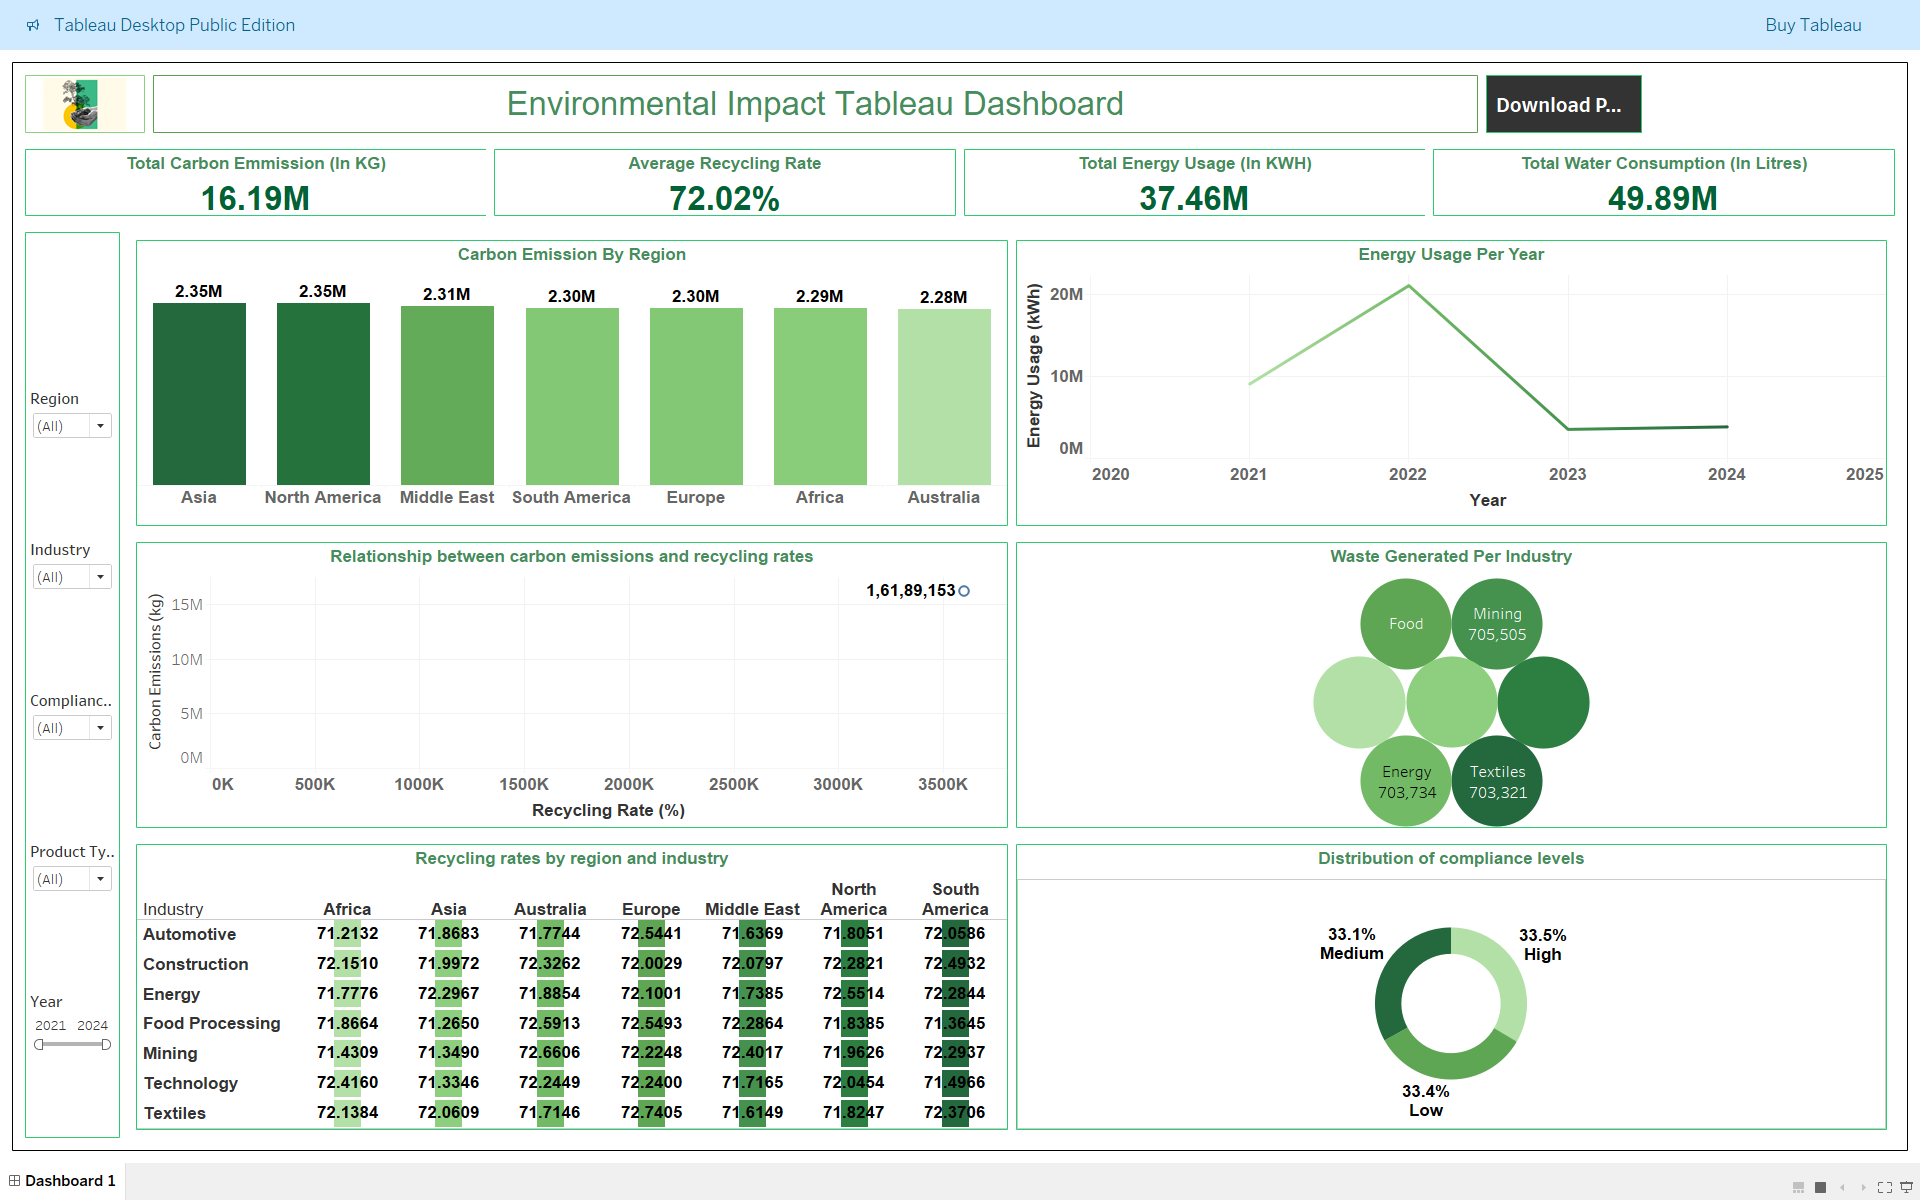

This screenshot's page, from the dashboard's own definition file:
{"tool":"tableau","page":{"name":"Dashboard 1","canvas":[1000,1000],"units":"permille","ordinal":0},"visuals":[{"type":"image","param":"Image/Logo.jpg","box":[12.7,22.8,77.2,71.7]},{"type":"text","box":[89.9,22.8,804.5,71.7]},{"type":"dashboard-object","box":[894.4,22.8,93,71.7]},{"type":"worksheet","title":"Total Carbon Emmission","mark":"Automatic","box":[12.7,103.2,243.7,81.4]},{"type":"worksheet","title":"Average Recycling Rate","mark":"Automatic","box":[256.3,103.2,243.7,81.4]},{"type":"worksheet","title":"Total Energy Usage","mark":"Automatic","box":[500,103.2,243.7,81.4]},{"type":"worksheet","title":"Total Water Consumption","mark":"Automatic","box":[743.7,103.2,243.7,81.4]},{"type":"worksheet","title":"Filters","mark":"Automatic","box":[15.7,198.7,56.1,129.2]},{"type":"worksheet","title":"Carbon Emission By Region","mark":"Automatic","rows":["Carbon Emissions (kg)"],"cols":["Region"],"box":[79.7,202,451.4,249.7]},{"type":"worksheet","title":"Energy Usage Per Year","mark":"Automatic","rows":["Energy Usage (kWh)"],"cols":["Year"],"box":[531.1,202,451.4,249.7]},{"type":"filter","title":"Filters","param":"[federated.18t0jgy1808km61g6yysw1695qyj].[none:Region:nk]","box":[15.7,327.9,56.1,129.2]},{"type":"filter","title":"Filters","param":"[federated.18t0jgy1808km61g6yysw1695qyj].[none:Industry:nk]","box":[15.7,457.1,56.1,129.2]},{"type":"worksheet","title":"Relationship between carbon emissions and recycling rates","mark":"Automatic","rows":["Carbon Emissions (kg)"],"cols":["Recycling Rate (%)"],"box":[79.7,460.4,451.4,249.7]},{"type":"worksheet","title":"Waste Generated Per Industry","mark":"Circle","box":[531.1,460.4,451.4,249.7]},{"type":"filter","title":"Filters","param":"[federated.18t0jgy1808km61g6yysw1695qyj].[none:Compliance Level:nk]","box":[15.7,586.3,56.1,129.2]},{"type":"filter","title":"Filters","param":"[federated.18t0jgy1808km61g6yysw1695qyj].[none:Product Type:nk]","box":[15.7,715.5,56.1,128.1]},{"type":"worksheet","title":"Recycling rates by region and industry","mark":"Automatic","rows":["Industry"],"cols":["Region"],"box":[79.7,718.8,451.4,249.7]},{"type":"worksheet","title":"Distribution of compliance levels","mark":"Pie","rows":["Calculation_1428485513699528705","Calculation_1428485513699528705"],"box":[531.1,718.8,451.4,249.7]},{"type":"filter","title":"Filters","param":"[federated.18t0jgy1808km61g6yysw1695qyj].[none:Year:qk]","box":[15.7,843.6,56.1,128.1]}]}

Visuals, with their boxes on the dashboard's canvas, which has no fixed pixel size, in thousandths of its width and height (x1, y1, x2, y2). These are canvas units, not pixel positions in the 1920x1200 screenshot, which may show the page scaled, cropped or inside an application window:
image: 13/23/90/94
text: 90/23/894/94
dashboard-object: 894/23/987/94
"Total Carbon Emmission" worksheet: 13/103/256/185
"Average Recycling Rate" worksheet: 256/103/500/185
"Total Energy Usage" worksheet: 500/103/744/185
"Total Water Consumption" worksheet: 744/103/987/185
"Filters" worksheet: 16/199/72/328
"Carbon Emission By Region" worksheet: 80/202/531/452
"Energy Usage Per Year" worksheet: 531/202/982/452
"Filters" filter: 16/328/72/457
"Filters" filter: 16/457/72/586
"Relationship between carbon emissions and recycling rates" worksheet: 80/460/531/710
"Waste Generated Per Industry" worksheet (Circle marks): 531/460/982/710
"Filters" filter: 16/586/72/716
"Filters" filter: 16/716/72/844
"Recycling rates by region and industry" worksheet: 80/719/531/968
"Distribution of compliance levels" worksheet (Pie marks): 531/719/982/968
"Filters" filter: 16/844/72/972
